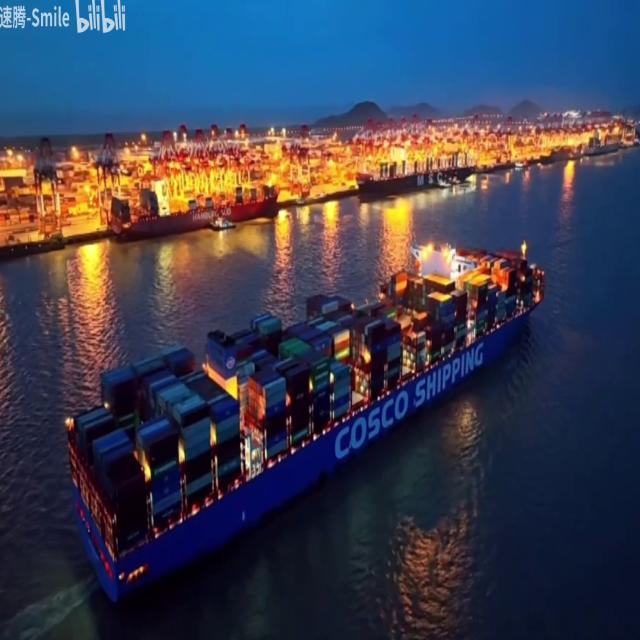cargoship: (60, 239, 546, 624)
